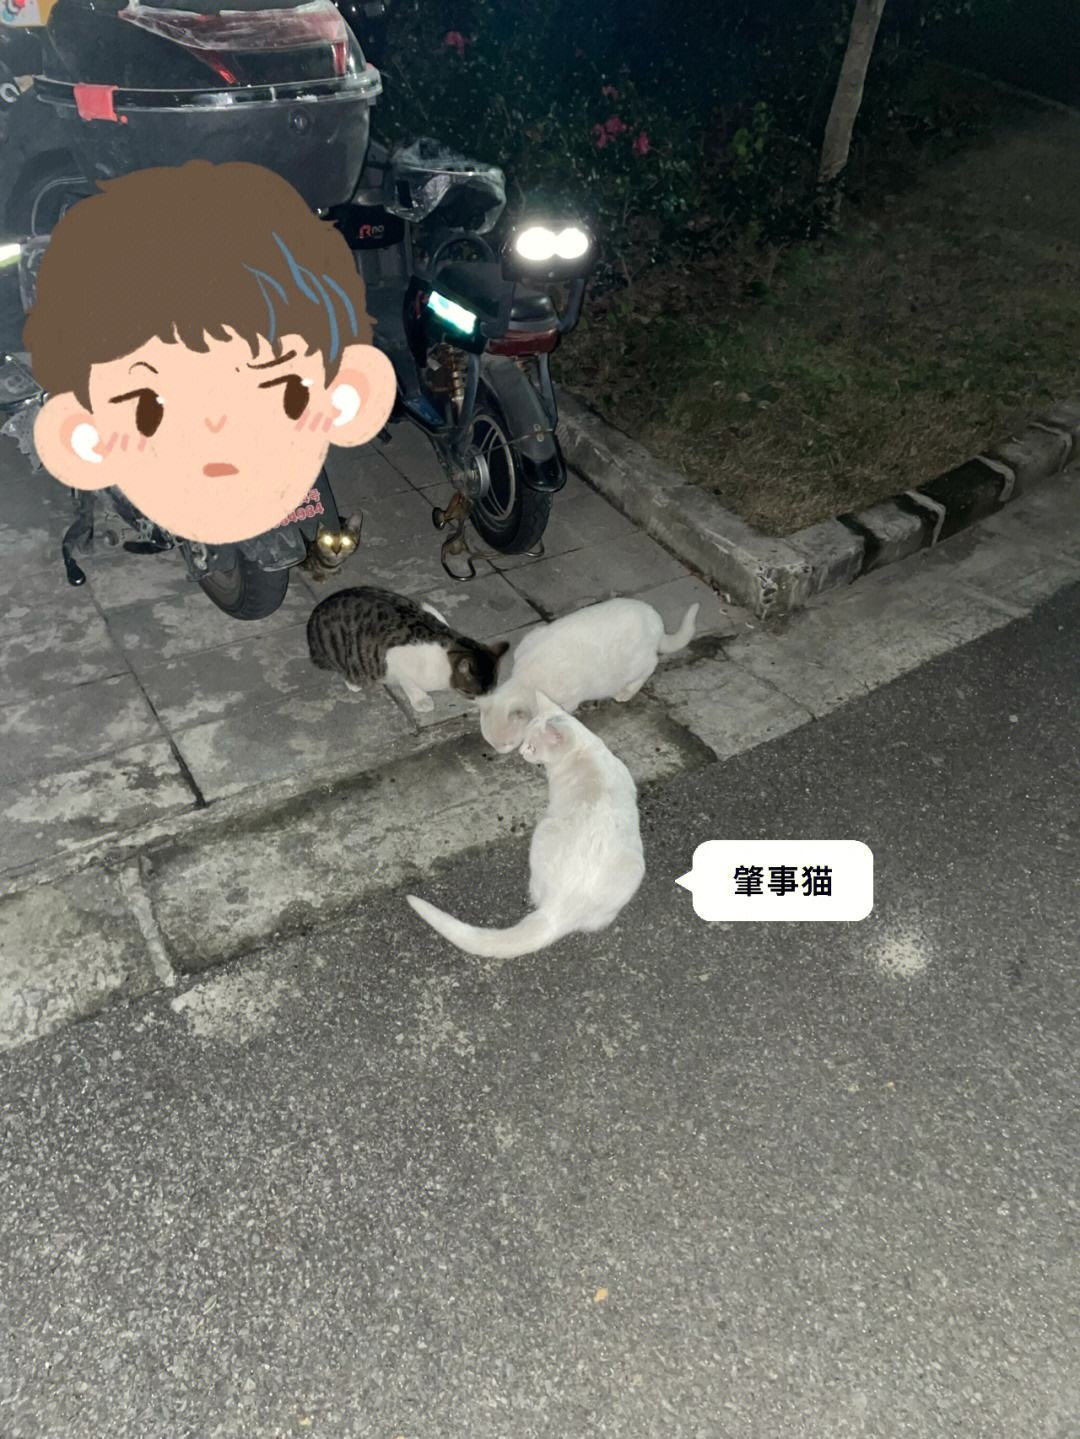cat: (405, 693, 649, 960), (473, 594, 698, 754), (307, 581, 511, 716)
